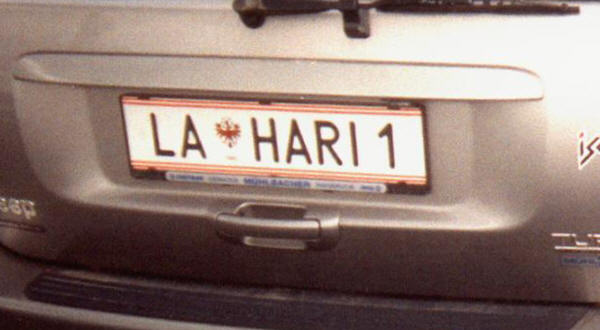license_plate: (119, 96, 428, 189)
